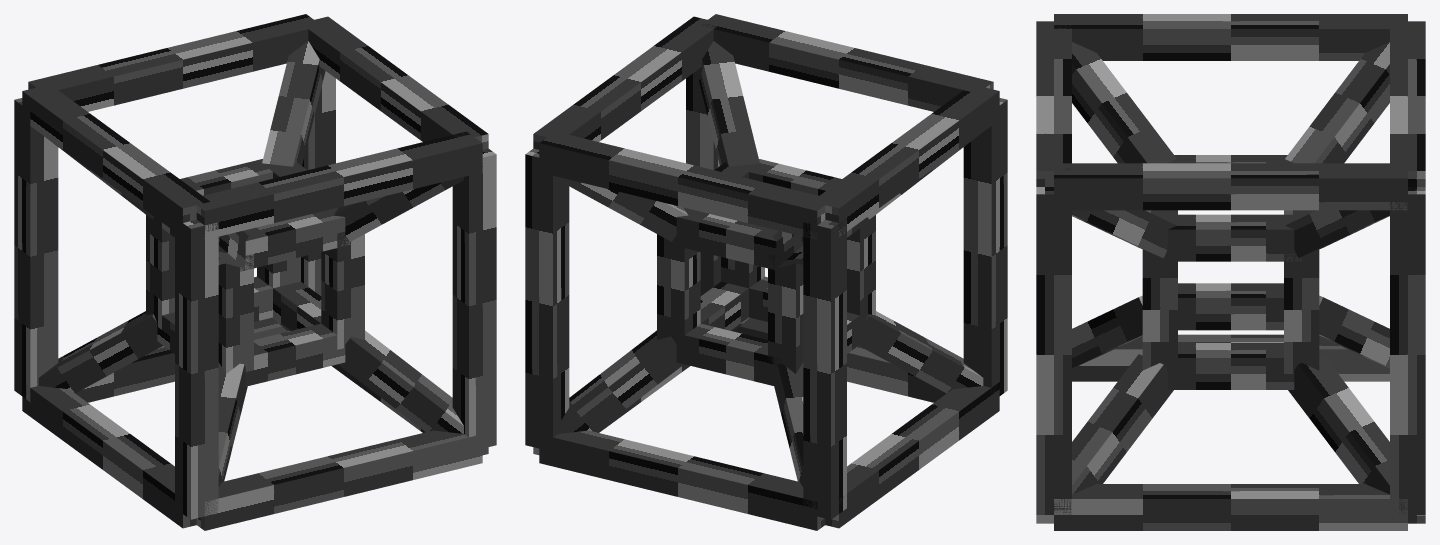
The picture shows the model from 3 angles, left to right: view 1: azimuth 30°, elevation 25°; view 2: azimuth 150°, elevation 25°; view 3: azimuth 270°, elevation 25°; orthographic projection. The views are drawn at different scales.
Visible parts, largest first — view 1: tesseract; view 2: tesseract; view 3: tesseract.
Part boxes in pixels (x1=…): tesseract: x1=14, y1=14, x2=496, y2=530; tesseract: x1=525, y1=14, x2=1007, y2=530; tesseract: x1=1036, y1=14, x2=1425, y2=530.
Size of the model in its own units: 1.1 by 1.1 by 1.1.
